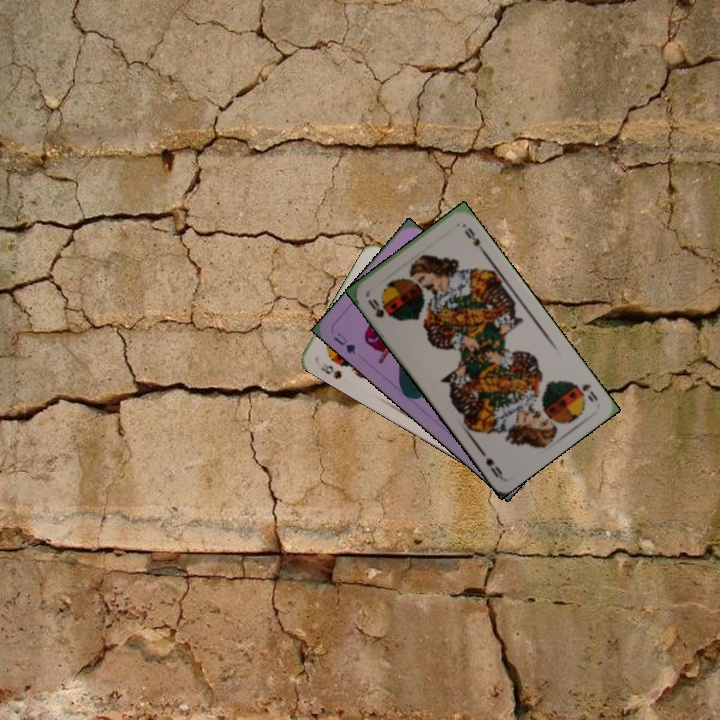GU: (330, 328, 358, 357)
S8: (316, 359, 345, 382)
SO: (364, 295, 394, 321), (578, 380, 601, 405)
